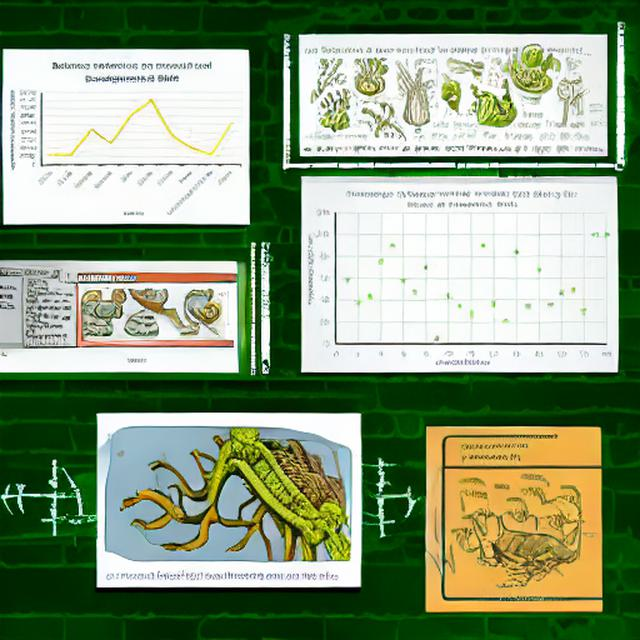Graph: (303, 185, 615, 370), (3, 58, 247, 222)
